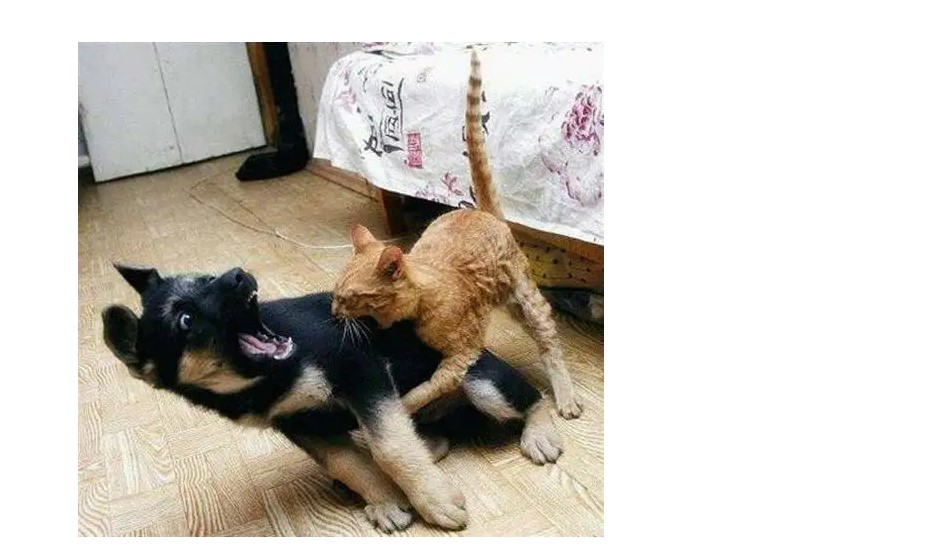cat: (330, 51, 585, 446)
dog: (99, 264, 565, 536)
